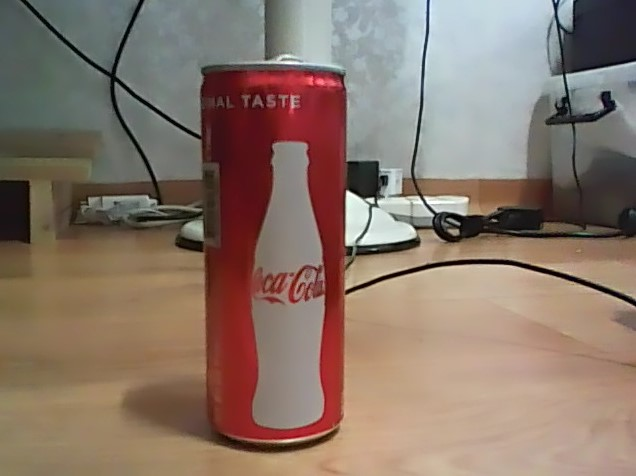Can: (191, 51, 352, 452)
